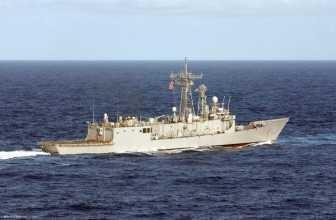warship: (39, 52, 294, 157)
